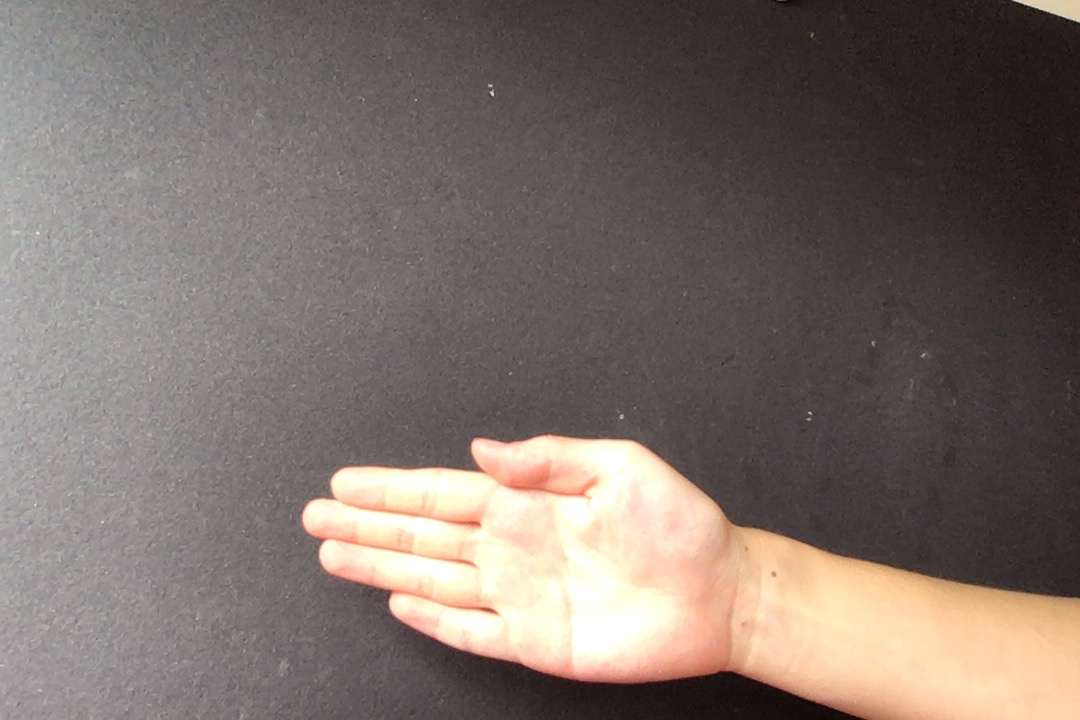palmhand: (296, 426, 732, 693)
